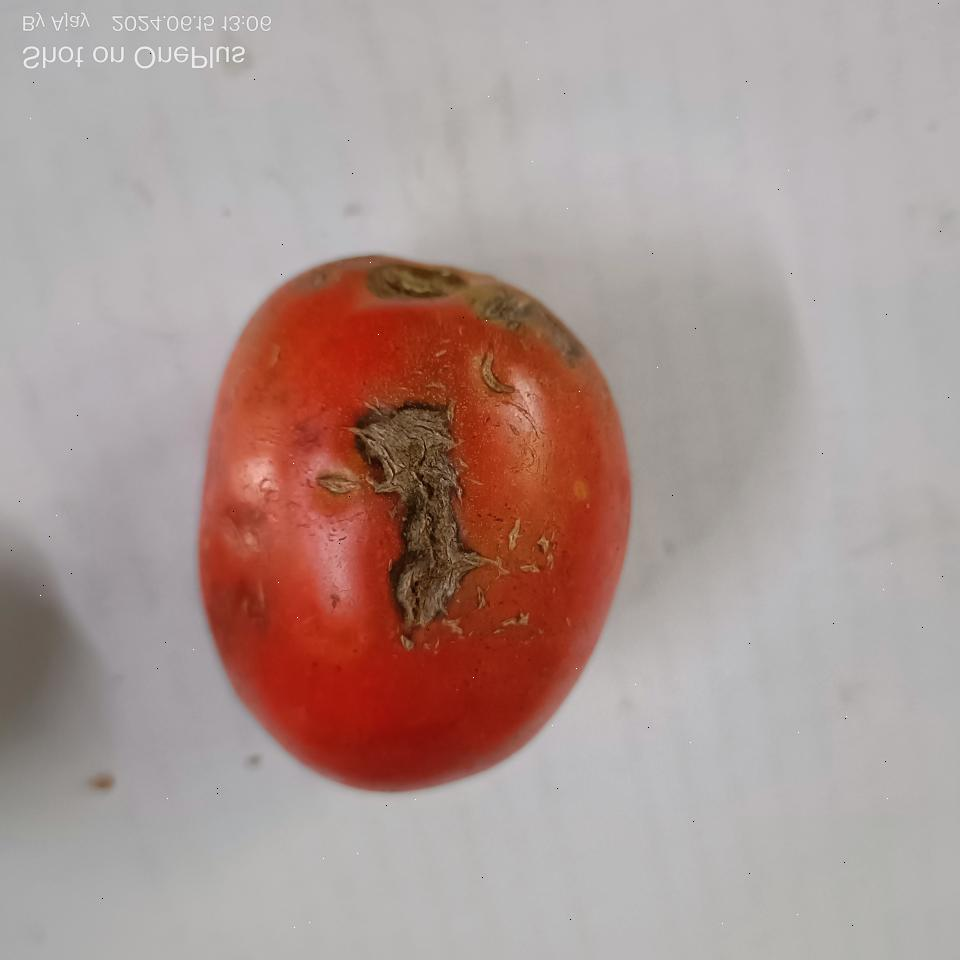Bacterial_Spot: (356, 392, 474, 650)
